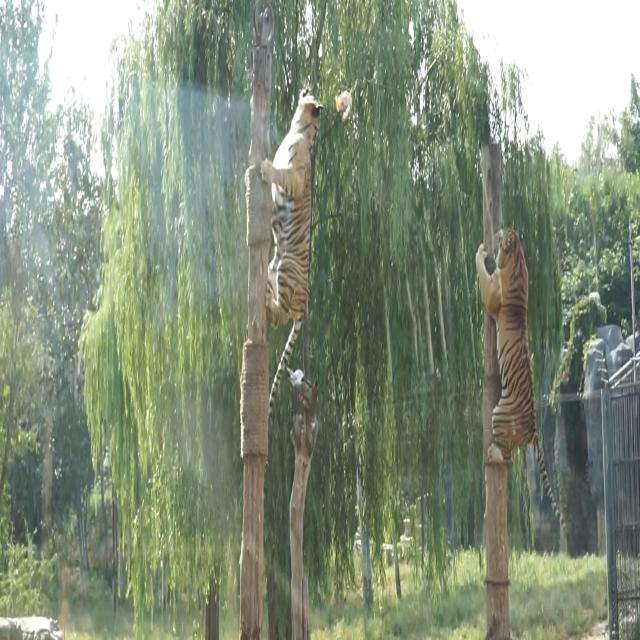Tiger: (474, 222, 565, 524), (256, 77, 312, 418)
